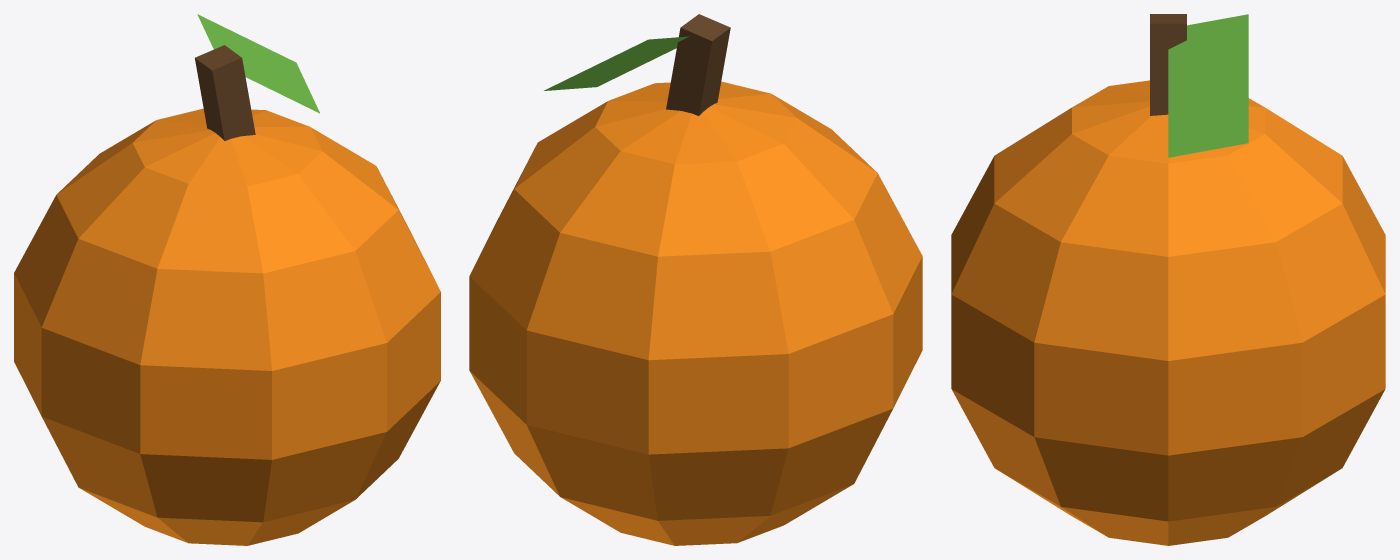
File: orange_item.obj
The picture shows the model from 3 angles, left to right: view 1: azimuth 30°, elevation 25°; view 2: azimuth 150°, elevation 25°; view 3: azimuth 270°, elevation 25°; orthographic projection. The views are drawn at different scales.
Visible parts, largest first — view 1: item; view 2: item; view 3: item.
Boxes of the visible parts, box(x1,y1,x2,y2) form: item: box(14, 14, 440, 545); item: box(469, 14, 922, 545); item: box(951, 14, 1385, 545).
Size of the model in its own units: 0.429 by 0.5326 by 0.408.
